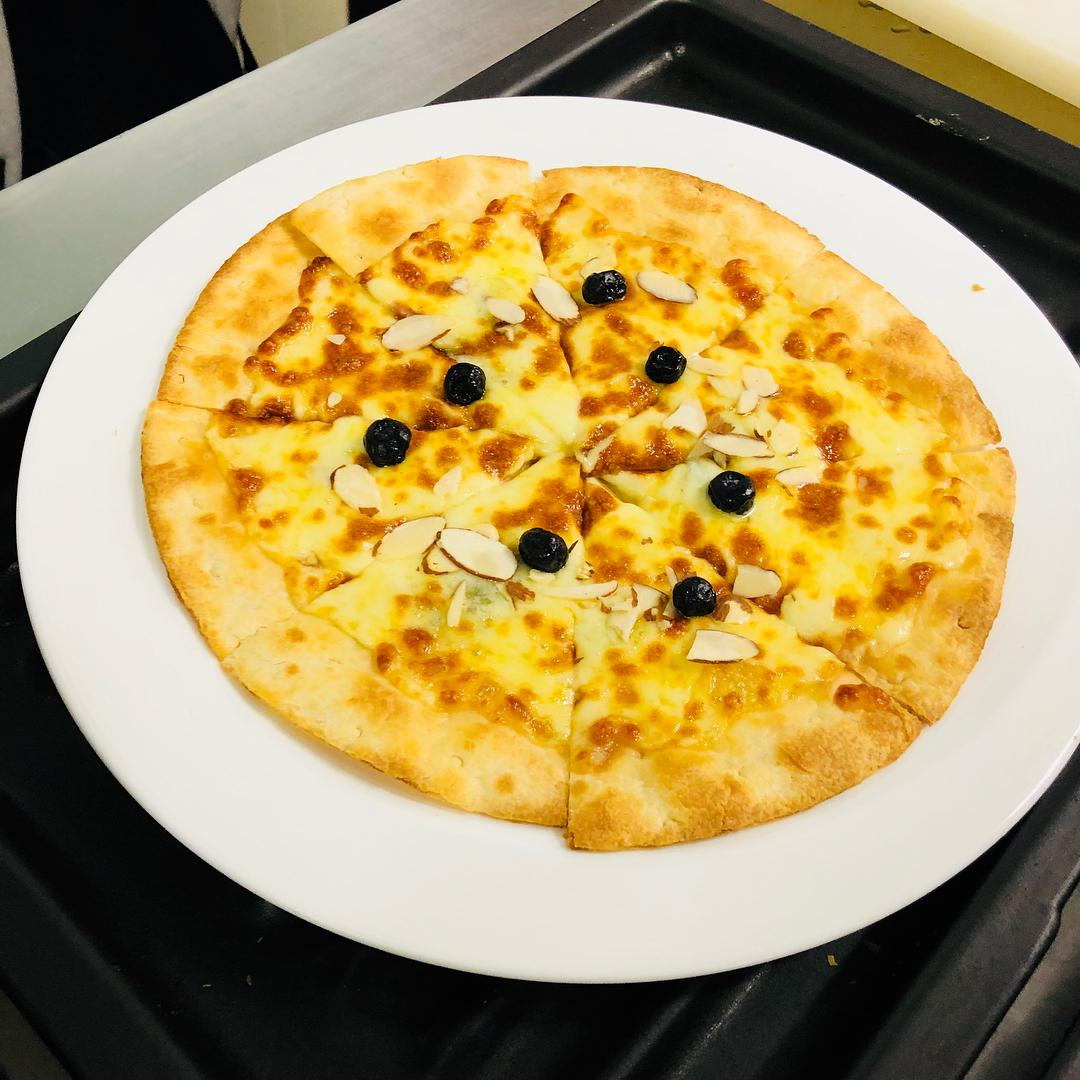Olives: (367, 419, 410, 464), (712, 468, 754, 514), (443, 361, 485, 406), (524, 530, 567, 572), (673, 576, 716, 613), (647, 347, 685, 379), (585, 270, 625, 300)
Pizza: (140, 157, 1015, 837)
